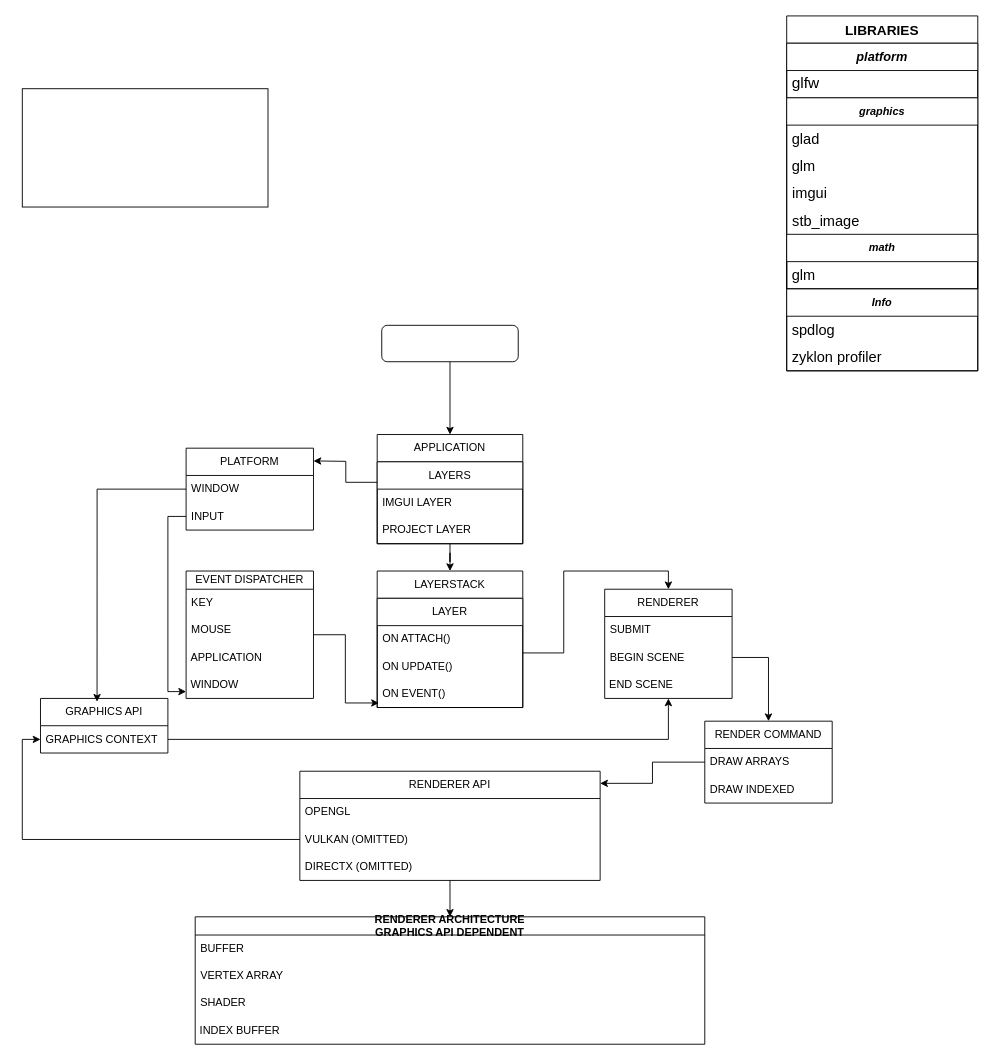
Image size: 994x1060. Some labels were removed from this diagram. Each missing label, with the centre of its shape:
ENTRYPOINT (MAIN FUNCTION): point 449,343
ZYKLON GAME ENGINE: point 144,147
